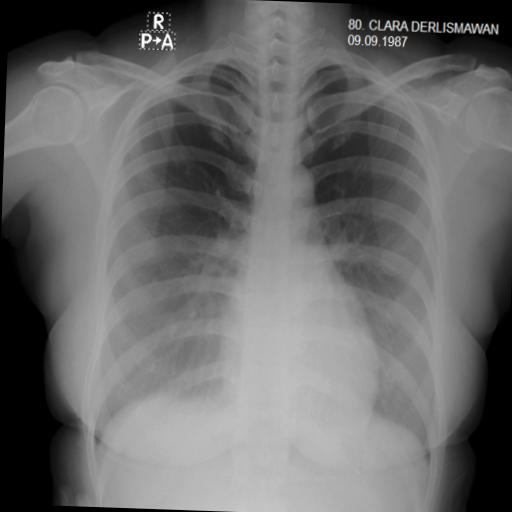normal: (80, 24, 454, 484)
